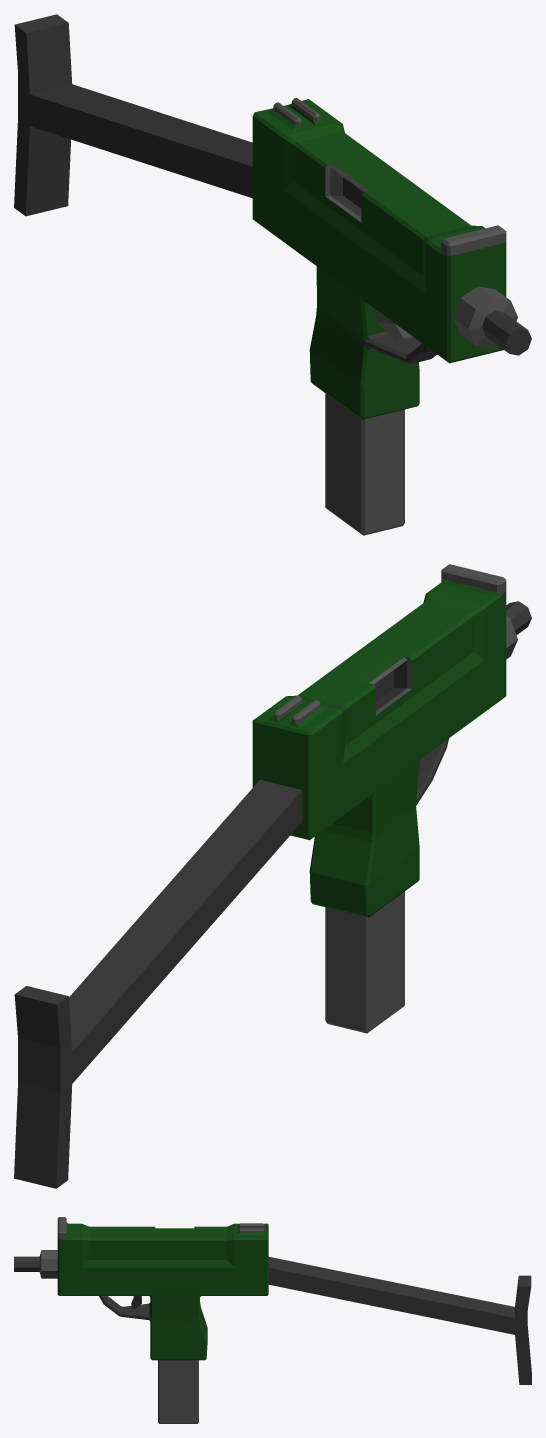
File: arma_1_05.fbx
3 renders of one model, top to bottom at view 1: azimuth 30°, elevation 25°; view 2: azimuth 150°, elevation 25°; view 3: azimuth 270°, elevation 25°, orthographic. The views are drawn at different scales.
Parts seen in each view (by area): view 1: 7; view 2: 7; view 3: 7.
Boxes of the visible parts, box(x1,y1,x2,y2) form: 7: box(14, 14, 531, 535); 7: box(14, 564, 531, 1188); 7: box(14, 1217, 531, 1423).
Bounding box in the file's own units: 3.49 × 20.28 × 48.91.
